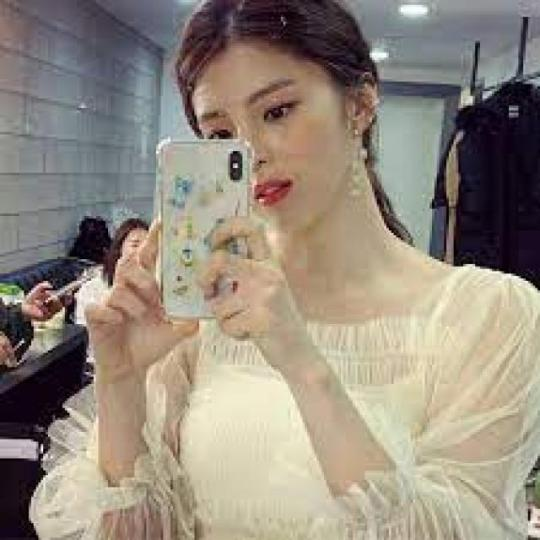phone: (159, 134, 251, 323)
